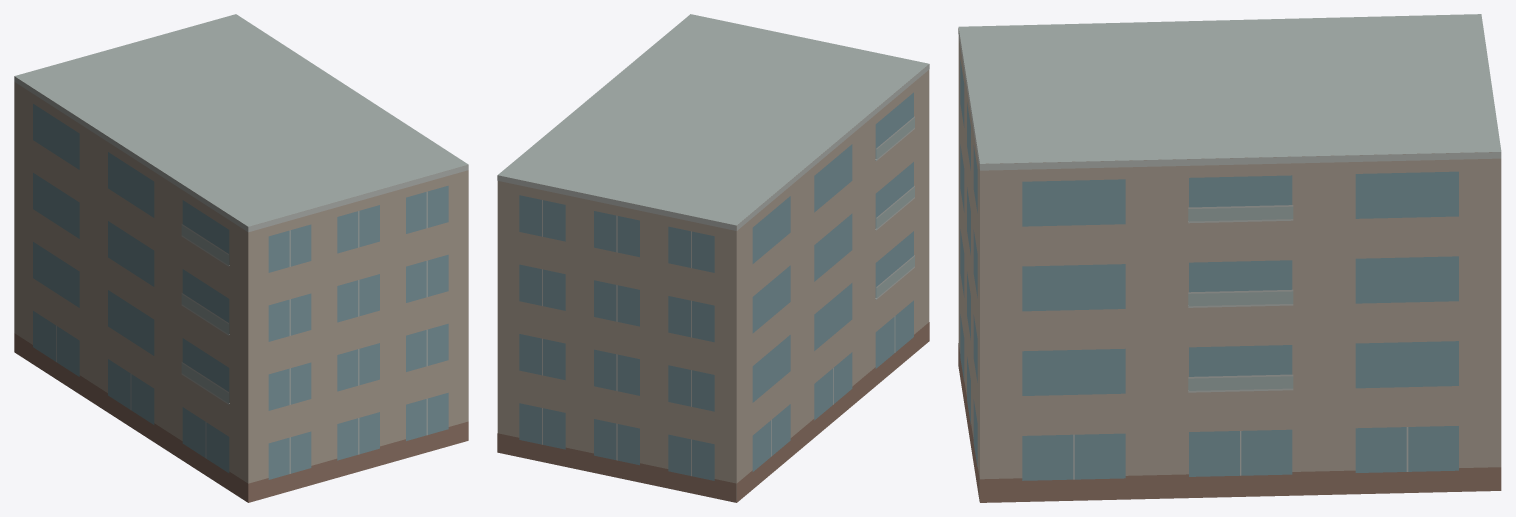
Rendered from survey-upis-32696748.glb.
The picture shows the model from 3 angles, left to right: view 1: azimuth 30°, elevation 25°; view 2: azimuth 150°, elevation 25°; view 3: azimuth 270°, elevation 25°; orthographic projection. The views are drawn at different scales.
Parts seen in each view (by area): view 1: survey-upis-32696748.tmp; view 2: survey-upis-32696748.tmp; view 3: survey-upis-32696748.tmp.
Boxes of the visible parts, x1,y1,x2,y2 form: survey-upis-32696748.tmp: (14,14,468,502); survey-upis-32696748.tmp: (497,14,929,502); survey-upis-32696748.tmp: (958,14,1501,502).
Size of the model in its own units: 11.58 by 12.2 by 17.72.
